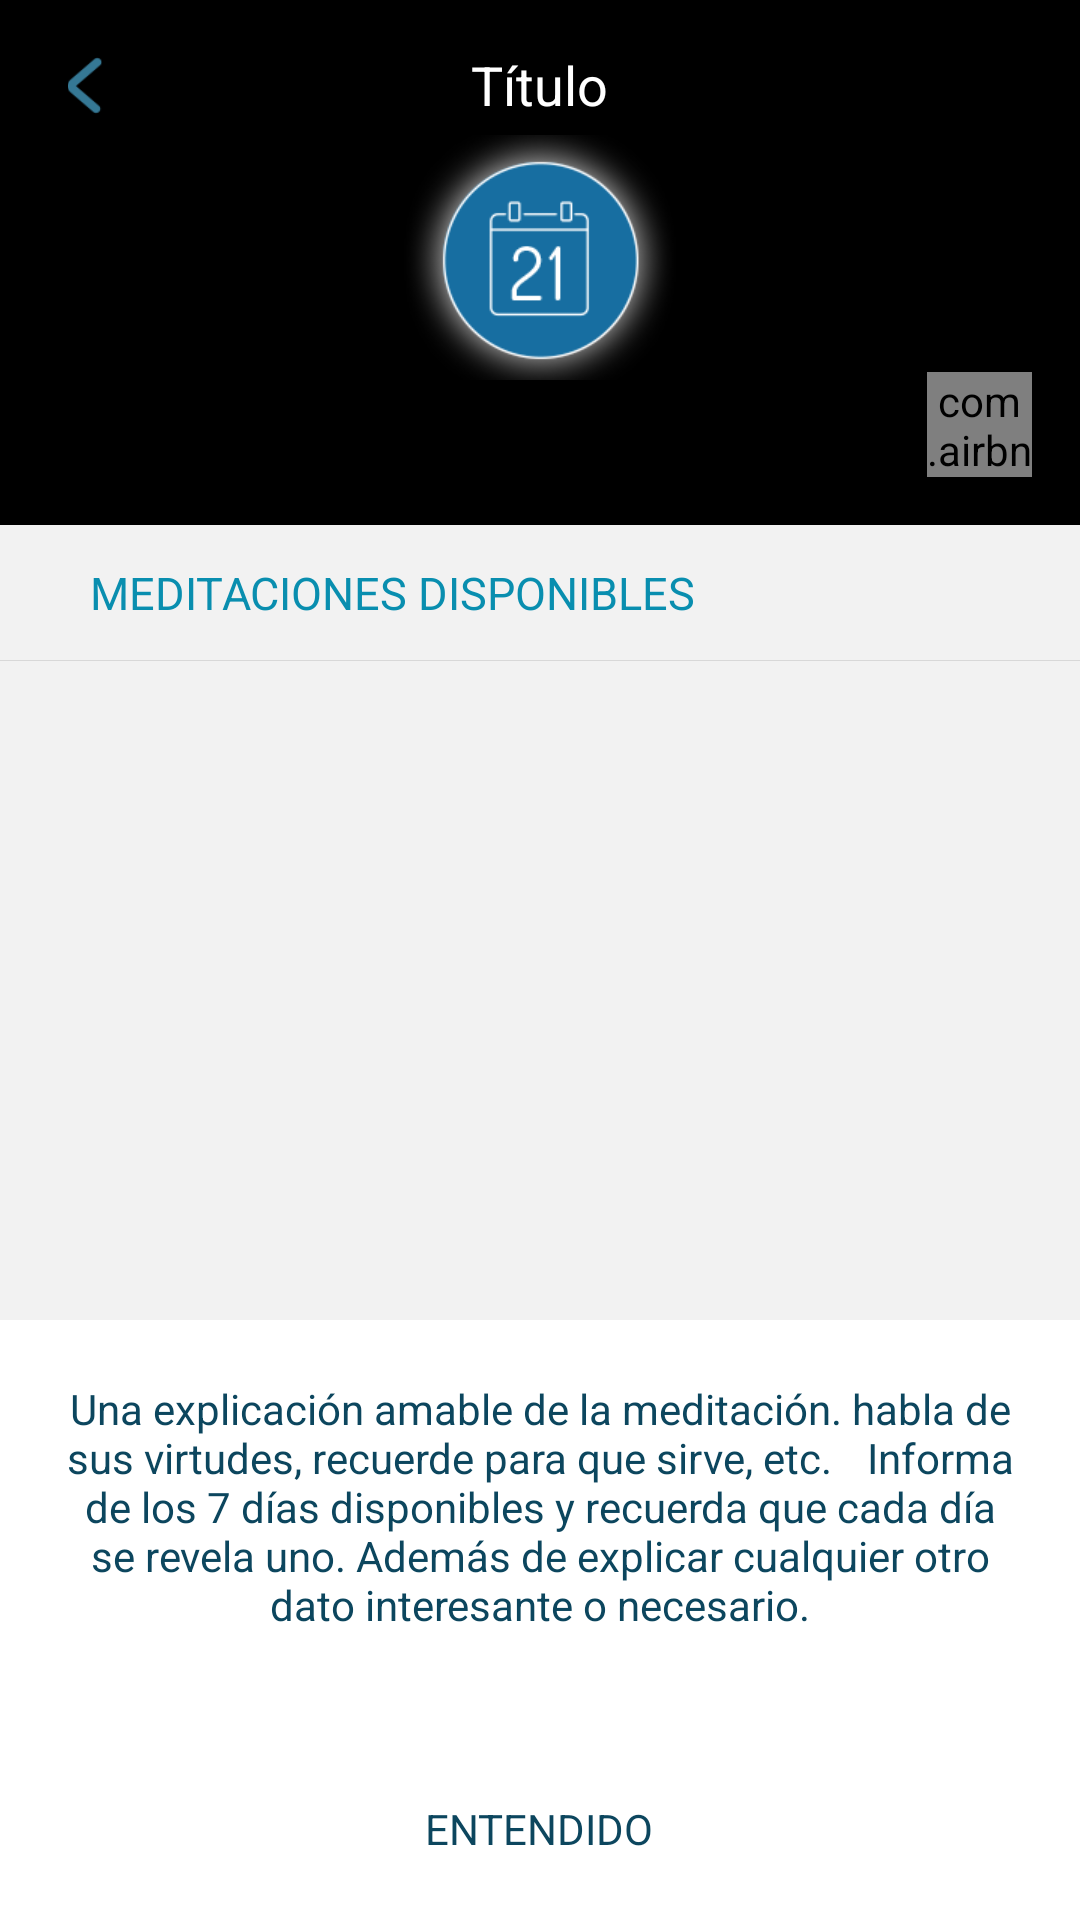

Icons on this 1080 × 1920 Android screen, each with its box as (x1, y1, x2, y2):
atras: (68, 58, 102, 113)
